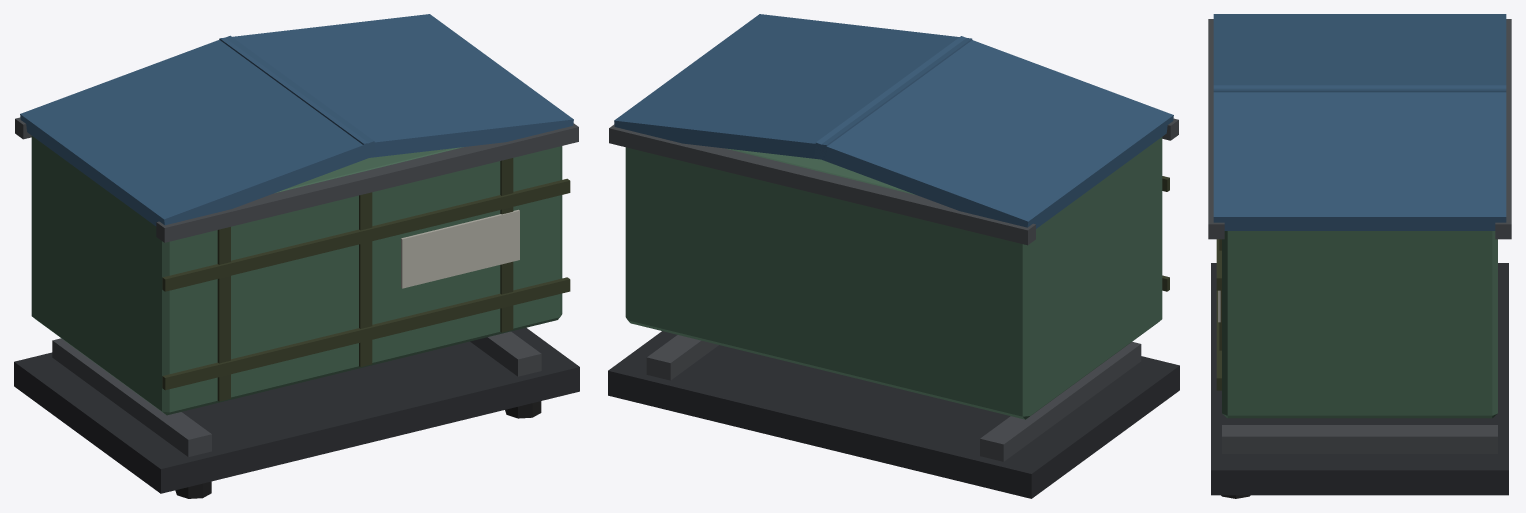
File: dumpster.fbx
3 views of the same model, side by side, from view 1: azimuth 30°, elevation 25°; view 2: azimuth 150°, elevation 25°; view 3: azimuth 270°, elevation 25° (orthographic).
Visible parts, largest first — view 1: dumpster; view 2: dumpster; view 3: dumpster.
Boxes of the visible parts, left/top/right/bottom form: dumpster: left=14, top=14, right=579, bottom=498; dumpster: left=608, top=14, right=1179, bottom=498; dumpster: left=1208, top=14, right=1511, bottom=498.
Bounding box in the file's own units: 1.78 × 1.28 × 1.1.
